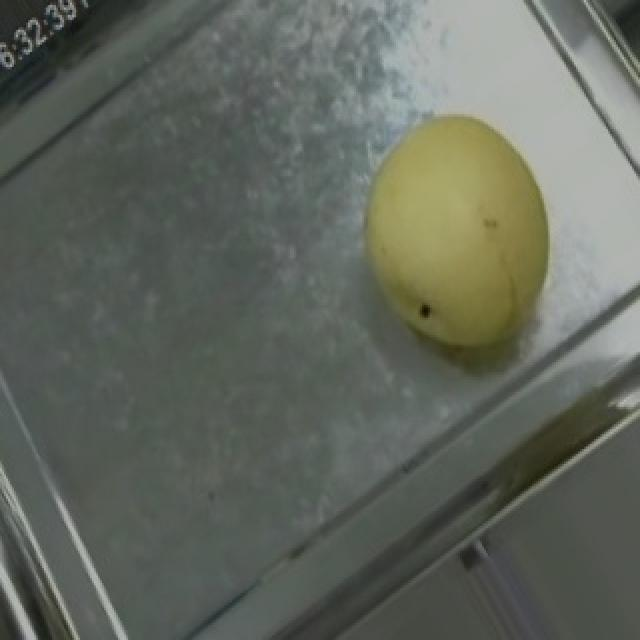Fruit: (318, 77, 598, 387)
